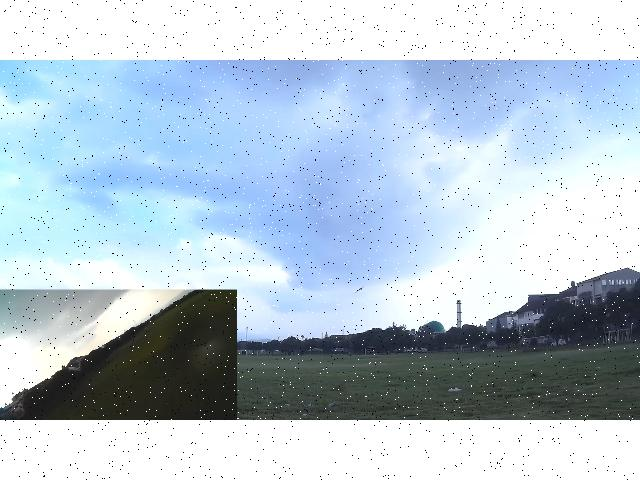Anti-Drone: (352, 284, 364, 293)
